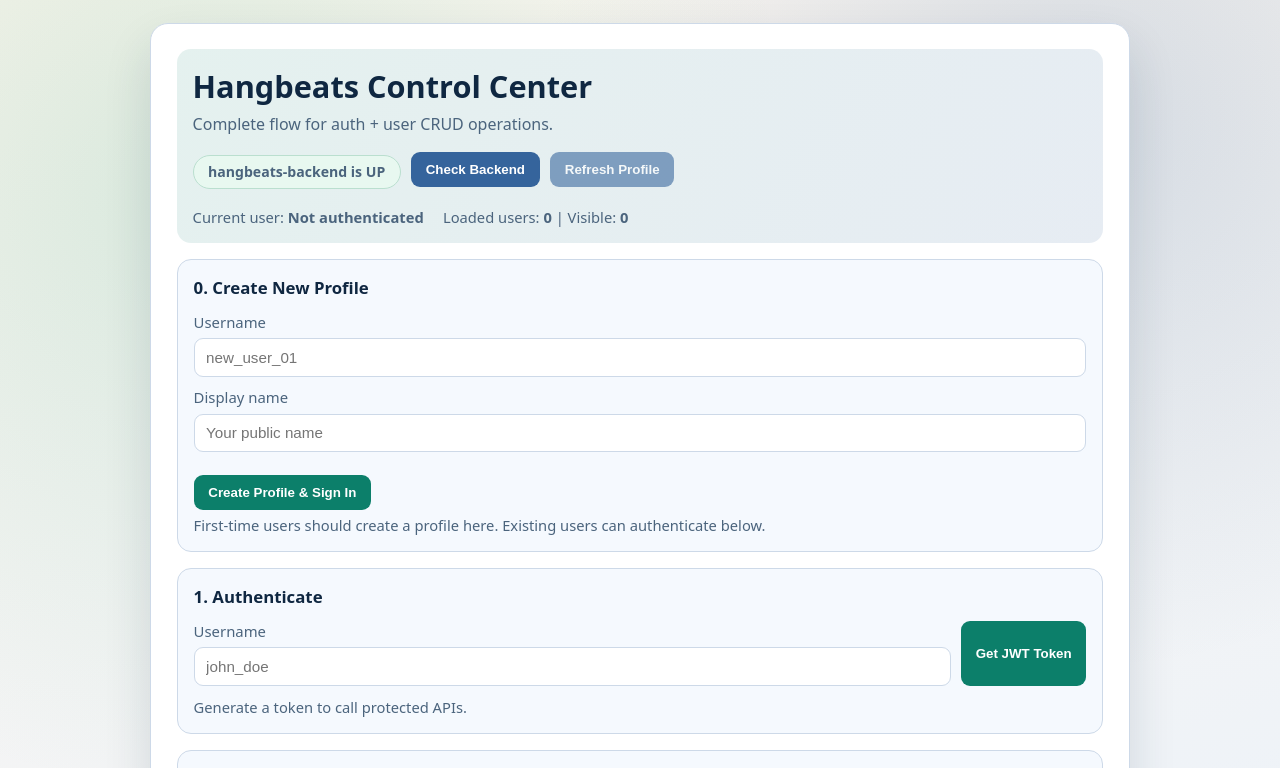
Scenario: App › shows validation message when token is requested without username
The image size is (1280, 768).
Click the button "Get JWT Token" at point(1024, 654), box [961,621,1086,686]
(page scrolled)
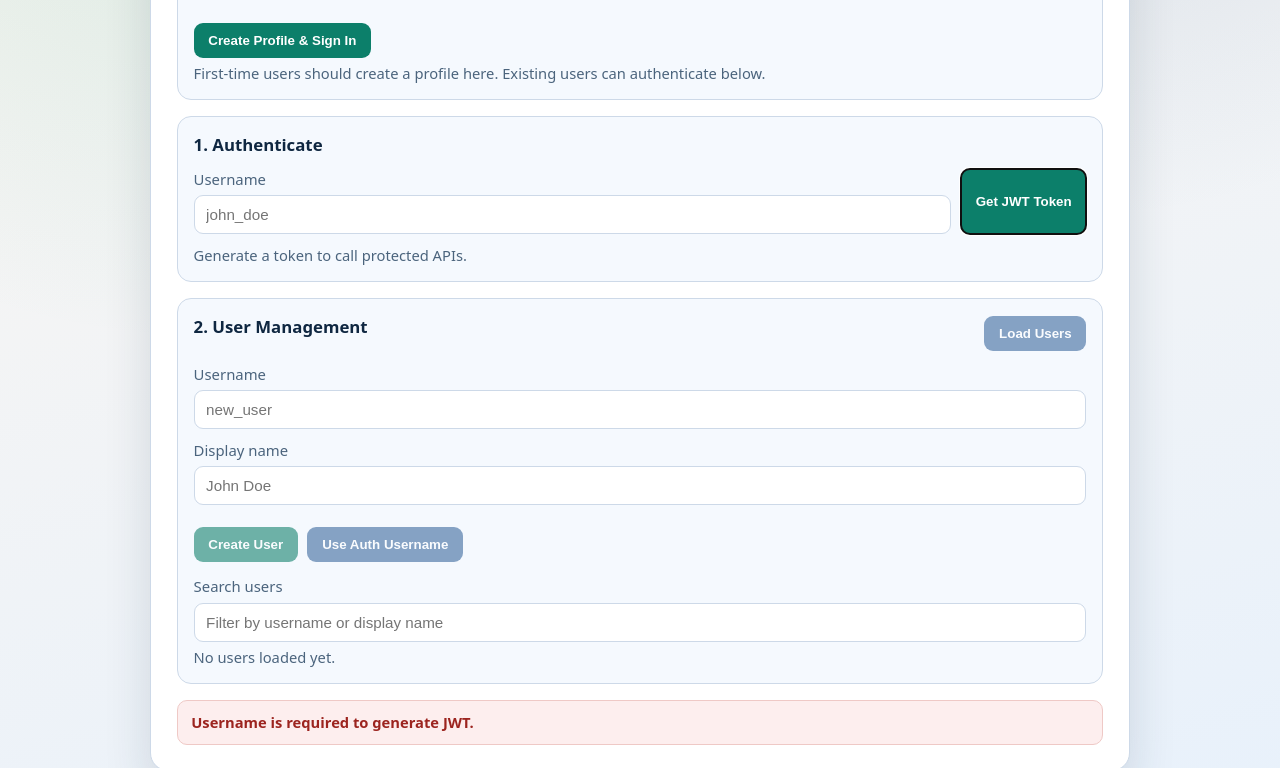
Expected: the text "Username is required to generate JWT." is shown, [177,700,1103,745]
